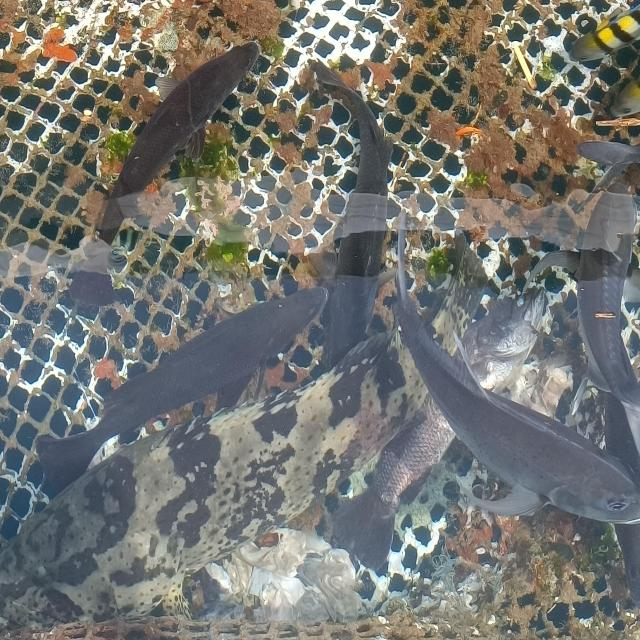ikan: (391, 214, 639, 528), (34, 283, 330, 502), (94, 38, 261, 248), (568, 4, 640, 64)
